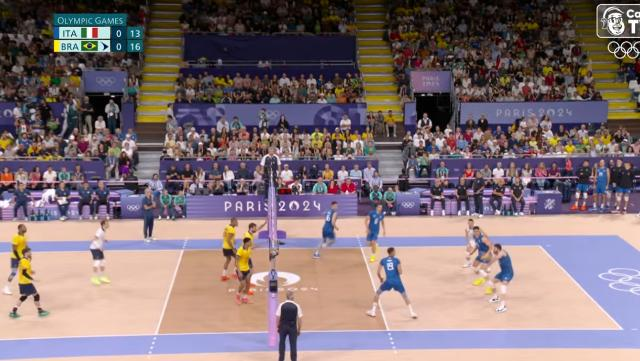Levantador: (15, 249, 40, 315), (365, 203, 383, 259)
Libero: (92, 220, 108, 286), (464, 218, 474, 244)
bola: (481, 250, 492, 264)
